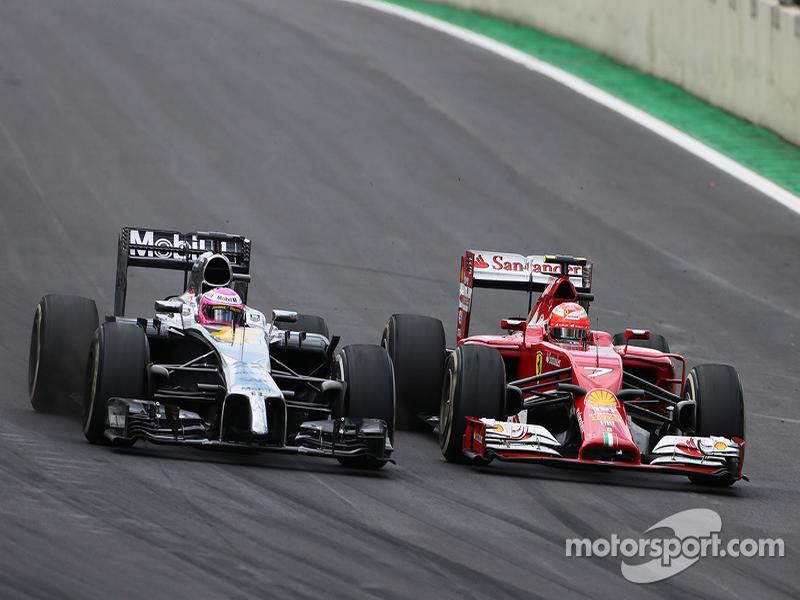f1: (387, 211, 767, 483), (28, 221, 396, 487)
